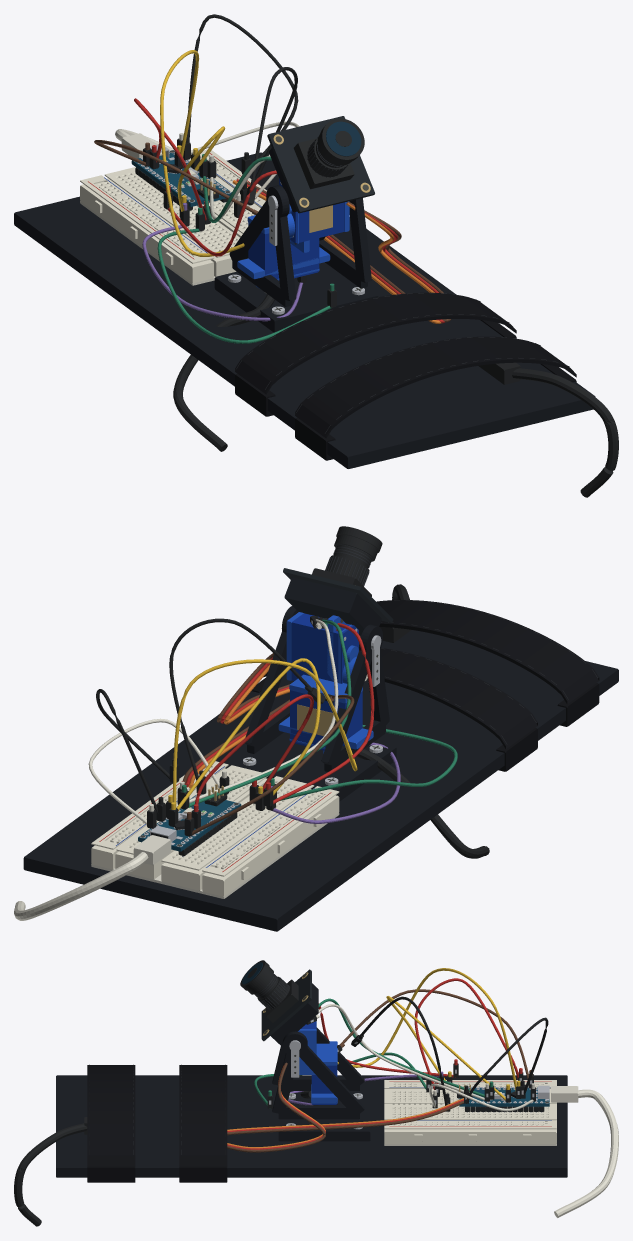
Rendered from JARVIS.obj.
3 renders of one model, top to bottom at view 1: azimuth 30°, elevation 25°; view 2: azimuth 150°, elevation 25°; view 3: azimuth 270°, elevation 25°, orthographic. The views are drawn at different scales.
Visible parts, largest first — view 1: Mounting_plate_chassis, Velcro_hook-and-loop_straps_strap, Tilt_bracket_chassis, Power_cable_black, Pan_mount_chassis, Camera_PCB_pcb, Breadboard_socket_walls_cream, Breadboard_lower_housing_cream, Velcro_underside_returns_strap, Jumper_wiring_yellow, DuPont_connector_housings_black, Jumper_wiring_black (+18 smaller); view 2: Mounting_plate_chassis, Velcro_hook-and-loop_straps_strap, Tilt_bracket_chassis, Breadboard_lower_housing_cream, Breadboard_socket_walls_cream, Pan_mount_chassis, Jumper_wiring_yellow, Camera_mounting_cradle_chassis, Tilt_SG90_casing_blue, USB_cable_white, Breadboard_rail_borders_cream, Jumper_wiring_black (+19 smaller); view 3: Mounting_plate_chassis, Velcro_hook-and-loop_straps_strap, Tilt_bracket_chassis, Breadboard_socket_walls_cream, Breadboard_lower_housing_cream, Pan_mount_chassis, USB_cable_white, Velcro_underside_returns_strap, Jumper_wiring_yellow, Servo_cable_bundle_brown, Breadboard_rail_borders_cream, Power_cable_black (+18 smaller).
Part boxes in pixels (x1=…): Mounting_plate_chassis: x1=14, y1=152, x2=595, y2=468; Velcro_hook-and-loop_straps_strap: x1=235, y1=292, x2=576, y2=438; Tilt_bracket_chassis: x1=229, y1=185, x2=371, y2=306; Power_cable_black: x1=173, y1=294, x2=618, y2=497; Pan_mount_chassis: x1=214, y1=262, x2=378, y2=332; Camera_PCB_pcb: x1=267, y1=116, x2=374, y2=213; Breadboard_socket_walls_cream: x1=96, y1=156, x2=264, y2=257; Breadboard_lower_housing_cream: x1=80, y1=156, x2=260, y2=283; Velcro_underside_returns_strap: x1=235, y1=320, x2=576, y2=460; Jumper_wiring_yellow: x1=160, y1=50, x2=244, y2=256; DuPont_connector_housings_black: x1=143, y1=138, x2=336, y2=307; Jumper_wiring_black: x1=187, y1=14, x2=298, y2=203; Mounting_plate_chassis: x1=23, y1=630, x2=618, y2=931; Velcro_hook-and-loop_straps_strap: x1=263, y1=600, x2=599, y2=748; Tilt_bracket_chassis: x1=245, y1=606, x2=389, y2=771; Breadboard_lower_housing_cream: x1=91, y1=768, x2=339, y2=896; Breadboard_socket_walls_cream: x1=107, y1=766, x2=324, y2=869; Pan_mount_chassis: x1=229, y1=732, x2=396, y2=801; Jumper_wiring_yellow: x1=172, y1=658, x2=357, y2=810; Camera_mounting_cradle_chassis: x1=284, y1=577, x2=381, y2=635; Tilt_SG90_casing_blue: x1=291, y1=613, x2=358, y2=683; USB_cable_white: x1=14, y1=835, x2=171, y2=920; Breadboard_rail_borders_cream: x1=91, y1=761, x2=339, y2=876; Jumper_wiring_black: x1=96, y1=618, x2=312, y2=814; Mounting_plate_chassis: x1=56, y1=1075, x2=567, y2=1177; Velcro_hook-and-loop_straps_strap: x1=87, y1=1065, x2=227, y2=1165; Tilt_bracket_chassis: x1=272, y1=1027, x2=364, y2=1119; Breadboard_socket_walls_cream: x1=391, y1=1083, x2=550, y2=1125; Breadboard_lower_housing_cream: x1=384, y1=1083, x2=556, y2=1144; Pan_mount_chassis: x1=278, y1=1093, x2=370, y2=1141; USB_cable_white: x1=551, y1=1086, x2=618, y2=1217; Velcro_underside_returns_strap: x1=87, y1=1165, x2=227, y2=1182; Jumper_wiring_yellow: x1=337, y1=968, x2=517, y2=1100; Servo_cable_bundle_brown: x1=227, y1=1062, x2=463, y2=1152; Breadboard_rail_borders_cream: x1=384, y1=1080, x2=556, y2=1129; Power_cable_black: x1=14, y1=1091, x2=311, y2=1226.
Bounding box in the file's own units: 117 × 120 × 290.
